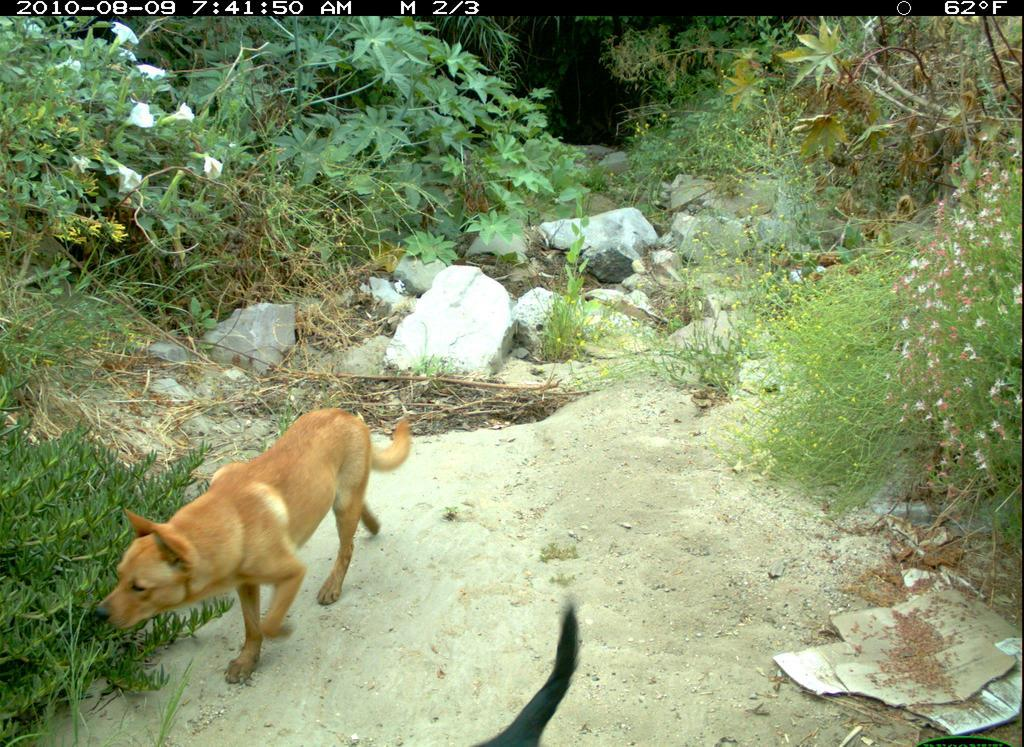dog: (81, 405, 413, 681), (457, 610, 584, 745)
